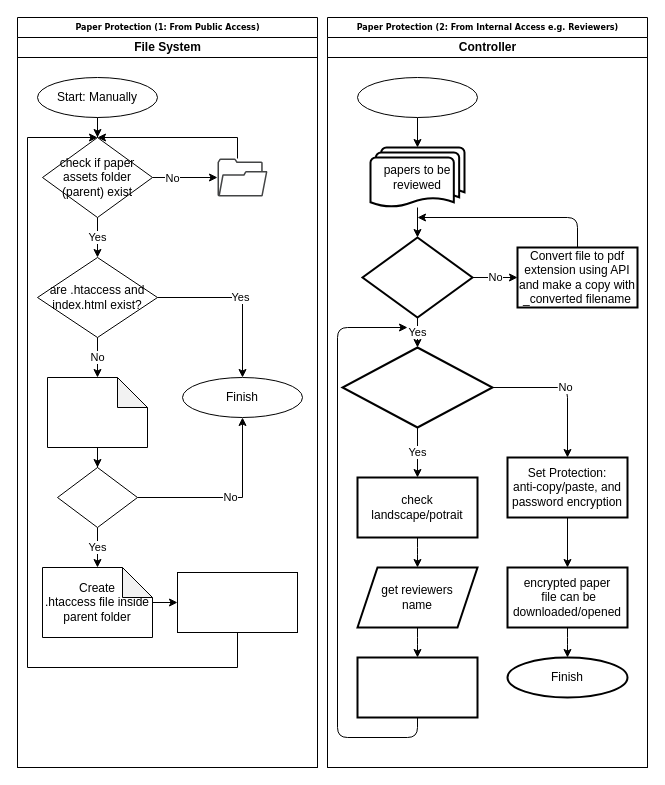
Some shapes in this 665 by 785 pixel diagram are drawn without their labels. The centre of each missing label's shape, as x and y in pixels:
Child folder become parent, and etc: the point at 237,602
Create assets folder (parent): the point at 242,177
Create index.html 404 file not found inside parent folder: the point at 97,412
has child folder?: the point at 97,497
is paper has pdf extension?: the point at 417,277
Start: the point at 417,97
while index < page numbers: the point at 417,387
Write watermark with reviewers name index page ++: the point at 417,687
